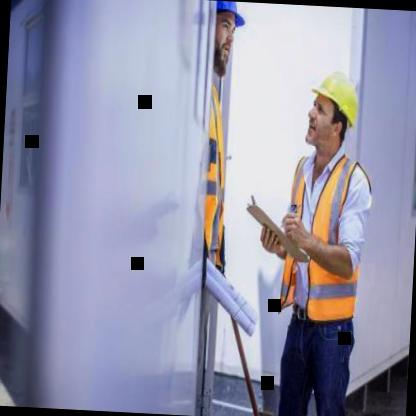helmet: (302, 66, 363, 154), (209, 0, 250, 77)
